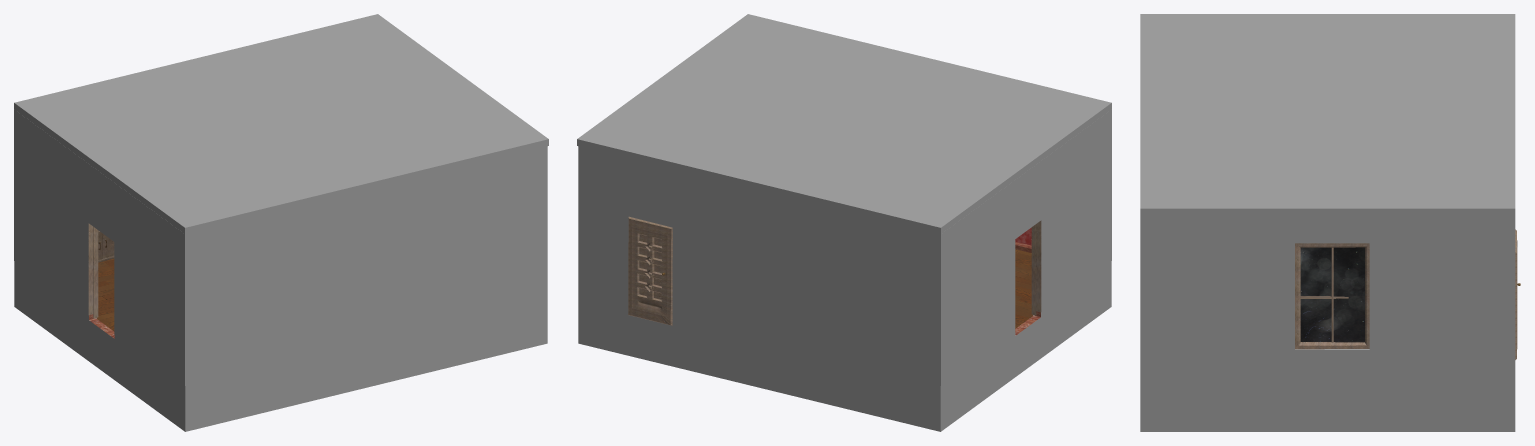
File: dining_room.fbx
The picture shows the model from 3 angles, left to right: view 1: azimuth 30°, elevation 25°; view 2: azimuth 150°, elevation 25°; view 3: azimuth 270°, elevation 25°; orthographic projection. The views are drawn at different scales.
Visible parts, largest first — view 1: pasted__walls, pasted__ceiling, floor, frame_two1; view 2: pasted__walls, pasted__ceiling, floor, pCube69, frame_two1; view 3: pasted__ceiling, pasted__walls, floor, pPlane6, pCube70, pCube69.
Part boxes in pixels (x1,y1,x2,y2): pasted__walls: (14,109,547,385); pasted__ceiling: (14,14,548,234); floor: (14,258,547,431); frame_two1: (93,227,98,318); pasted__walls: (578,109,1111,385); pasted__ceiling: (577,14,1111,234); floor: (578,241,1111,431); pCube69: (628,216,672,325); frame_two1: (1031,224,1036,315); pasted__ceiling: (1140,14,1515,216); pasted__walls: (1140,216,1515,381); floor: (1140,381,1515,431); pPlane6: (1300,247,1364,342); pCube70: (1295,243,1369,349); pCube69: (1515,229,1520,359).
Bounding box in the file's own units: 50.9 × 27.29 × 42.03.
